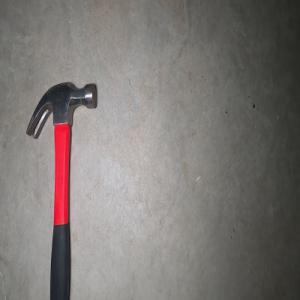Hammer: (25, 80, 97, 300)
